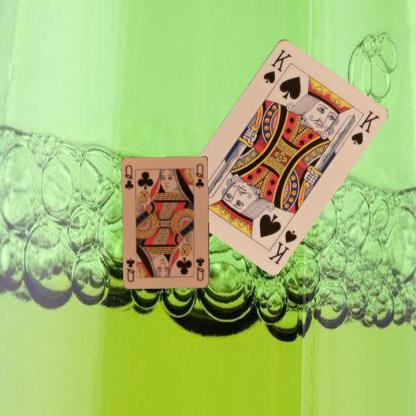Ks: (265, 226, 298, 266), (260, 46, 293, 85)
Qc: (123, 162, 135, 192), (194, 255, 206, 282)
